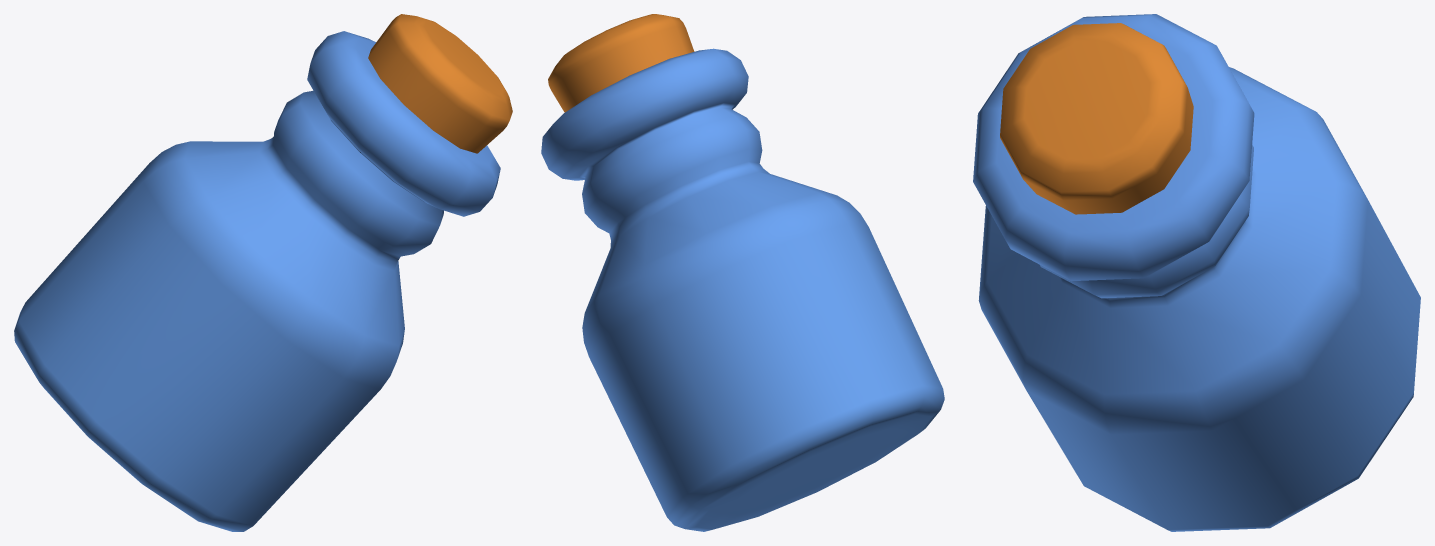
3 views of the same model, side by side, from view 1: azimuth 30°, elevation 25°; view 2: azimuth 150°, elevation 25°; view 3: azimuth 270°, elevation 25° (orthographic). The views are drawn at different scales.
Visible parts, largest first — view 1: model_1.128; view 2: model_1.128; view 3: model_1.128.
Boxes of the visible parts, box(x1,y1,x2,y2) form: model_1.128: box(14, 14, 512, 531); model_1.128: box(541, 14, 944, 531); model_1.128: box(973, 14, 1420, 531).
Size of the model in its own units: 4.07 by 4.34 by 3.
